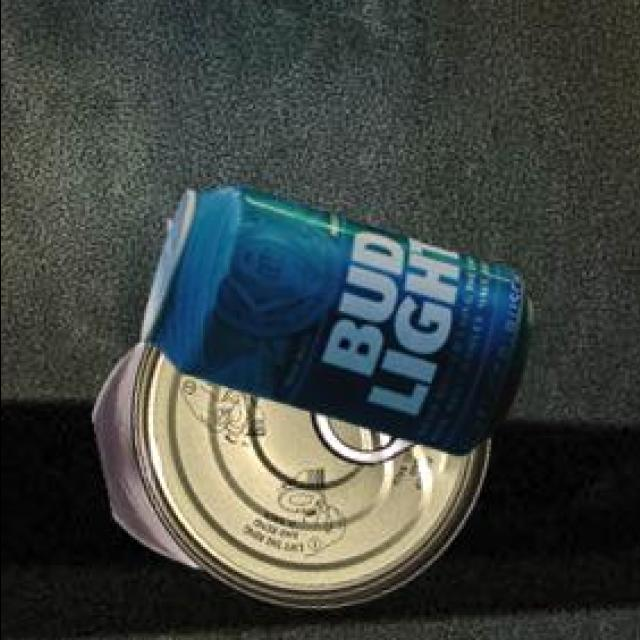logam: (87, 344, 485, 612), (137, 190, 528, 460)
